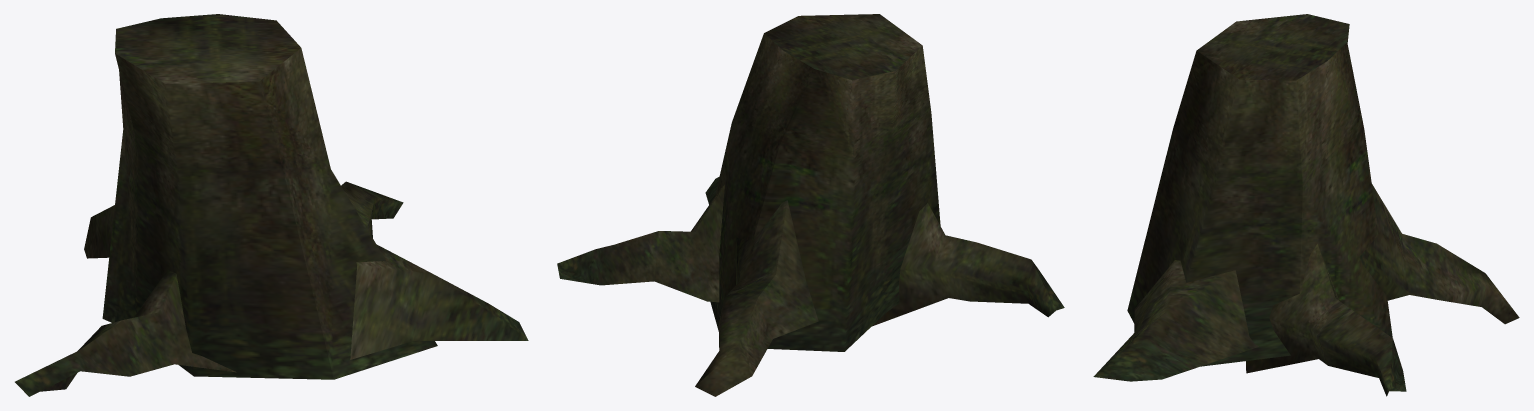
Rendered from fxmg_shugan6.FBX.
3 renders of one model, left to right at view 1: azimuth 30°, elevation 25°; view 2: azimuth 150°, elevation 25°; view 3: azimuth 270°, elevation 25°, orthographic. The views are drawn at different scales.
Parts seen in each view (by area): view 1: KLMSM_shugan6; view 2: KLMSM_shugan6; view 3: KLMSM_shugan6.
Boxes of the visible parts, left/top/right/bottom form: KLMSM_shugan6: left=15, top=14, right=528, bottom=396; KLMSM_shugan6: left=557, top=14, right=1064, bottom=396; KLMSM_shugan6: left=1093, top=14, right=1519, bottom=396.
Bounding box in the file's own units: 329 × 208 × 290.
